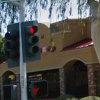Traffic light: (3, 16, 49, 74)
